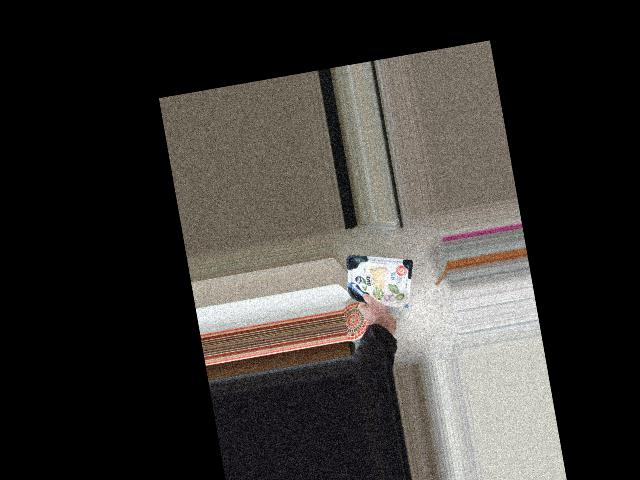cheese: (341, 245, 416, 317)
